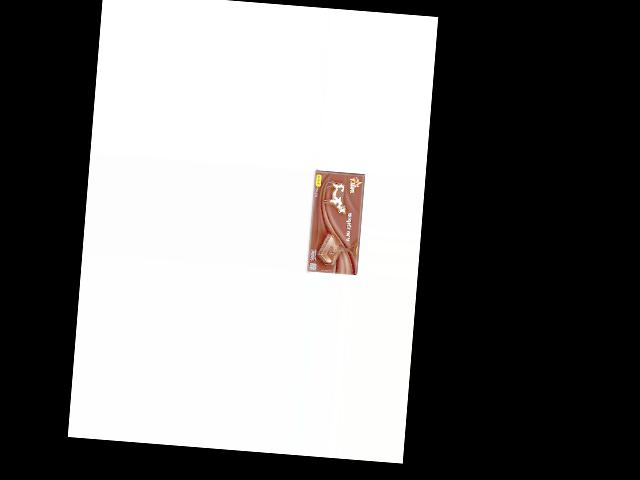chocolate: (306, 167, 366, 274)
